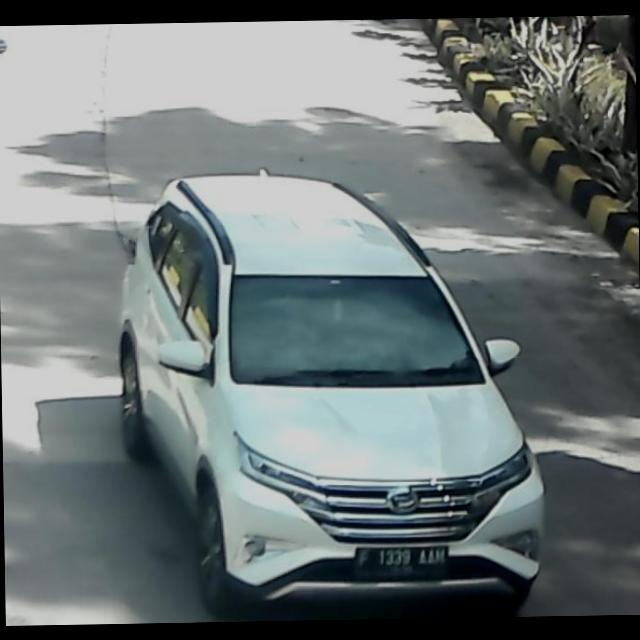plate: (350, 538, 452, 579)
